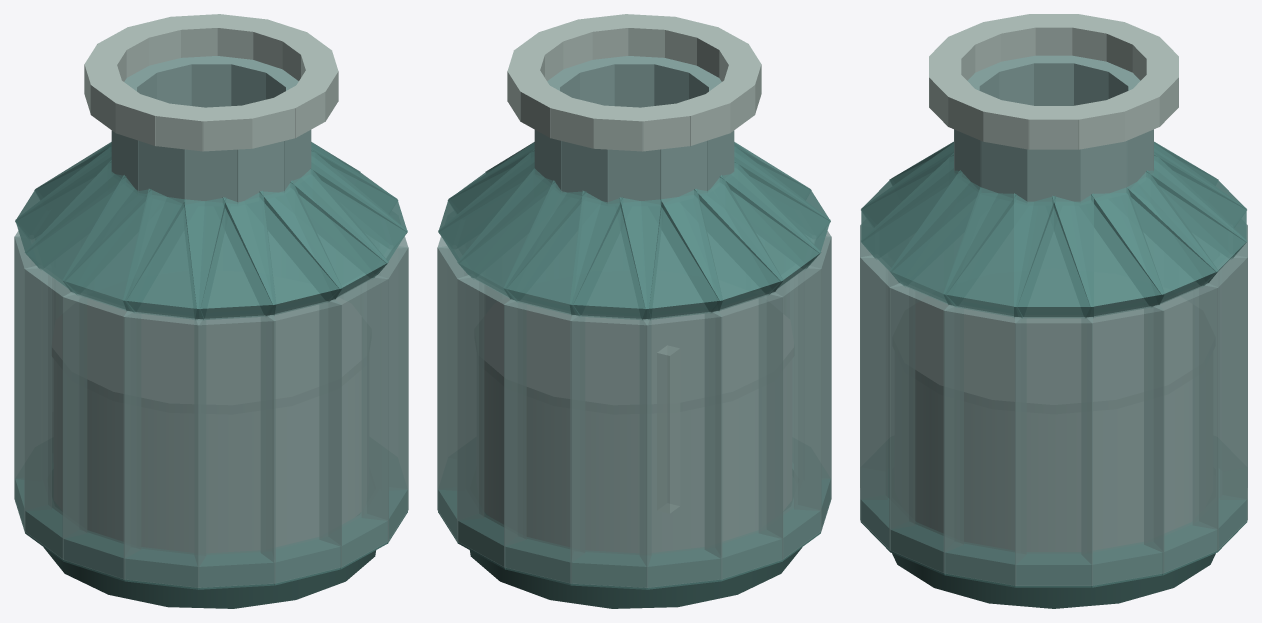
Rendered from CMU3DBottleFill3StudyCloud.glb.
3 views of the same model, side by side, from view 1: azimuth 30°, elevation 25°; view 2: azimuth 150°, elevation 25°; view 3: azimuth 270°, elevation 25° (orthographic).
Parts seen in each view (by area): view 1: static liquid volume level 3, hollow bottle wall 11, hollow bottle wall 12, hollow bottle wall 13, hollow bottle wall 10, flat liquid meniscus, hollow bottle wall 14, hollow bottle wall 09, hollow bottle wall 15, inward glass shoulder 11, inward glass shoulder 13, inward glass shoulder 12 (+46 smaller); view 2: static liquid volume level 3, hollow bottle wall 07, hollow bottle wall 06, hollow bottle wall 05, hollow bottle wall 08, hollow bottle wall 04, flat liquid meniscus, hollow bottle wall 09, hollow bottle wall 03, inward glass shoulder 07, inward glass shoulder 05, inward glass shoulder 06 (+47 smaller); view 3: static liquid volume level 3, hollow bottle wall 02, hollow bottle wall 16, hollow bottle wall 01, hollow bottle wall 03, hollow bottle wall 15, flat liquid meniscus, hollow bottle wall 04, hollow bottle wall 14, inward glass shoulder 02, inward glass shoulder 16, inward glass shoulder 01 (+44 smaller).
Part boxes in pixels (<box>): static liquid volume level 3: <box>54,360,360,552</box>; hollow bottle wall 11: <box>123,310,205,587</box>; hollow bottle wall 12: <box>194,314,275,587</box>; hollow bottle wall 13: <box>261,299,341,583</box>; hollow bottle wall 10: <box>62,292,140,579</box>; flat liquid meniscus: <box>52,298,360,413</box>; hollow bottle wall 14: <box>319,275,388,567</box>; hollow bottle wall 09: <box>24,265,86,559</box>; hollow bottle wall 15: <box>362,246,408,541</box>; inward glass shoulder 11: <box>123,188,226,320</box>; inward glass shoulder 13: <box>222,180,342,316</box>; inward glass shoulder 12: <box>184,190,276,320</box>; static liquid volume level 3: <box>485,360,791,552</box>; hollow bottle wall 07: <box>640,310,722,587</box>; hollow bottle wall 06: <box>570,314,651,587</box>; hollow bottle wall 05: <box>504,299,584,583</box>; hollow bottle wall 08: <box>705,292,783,579</box>; hollow bottle wall 04: <box>457,275,526,567</box>; flat liquid meniscus: <box>485,298,793,413</box>; hollow bottle wall 09: <box>759,265,821,559</box>; hollow bottle wall 03: <box>437,246,483,541</box>; inward glass shoulder 07: <box>619,188,722,320</box>; inward glass shoulder 05: <box>503,180,623,316</box>; inward glass shoulder 06: <box>569,190,661,320</box>; static liquid volume level 3: <box>916,380,1191,551</box>; hollow bottle wall 02: <box>1081,305,1164,585</box>; hollow bottle wall 16: <box>943,305,1026,585</box>; hollow bottle wall 01: <box>1015,315,1092,585</box>; hollow bottle wall 03: <box>1144,283,1218,573</box>; hollow bottle wall 15: <box>889,283,963,573</box>; flat liquid meniscus: <box>916,297,1191,413</box>; hollow bottle wall 04: <box>1193,255,1247,550</box>; hollow bottle wall 14: <box>860,255,914,550</box>; inward glass shoulder 02: <box>1052,187,1164,318</box>; inward glass shoulder 16: <box>943,187,1055,318</box>; inward glass shoulder 01: <box>1014,193,1093,317</box>.
Bounding box in the file's own units: 0.3384 × 0.453 × 0.3384.
